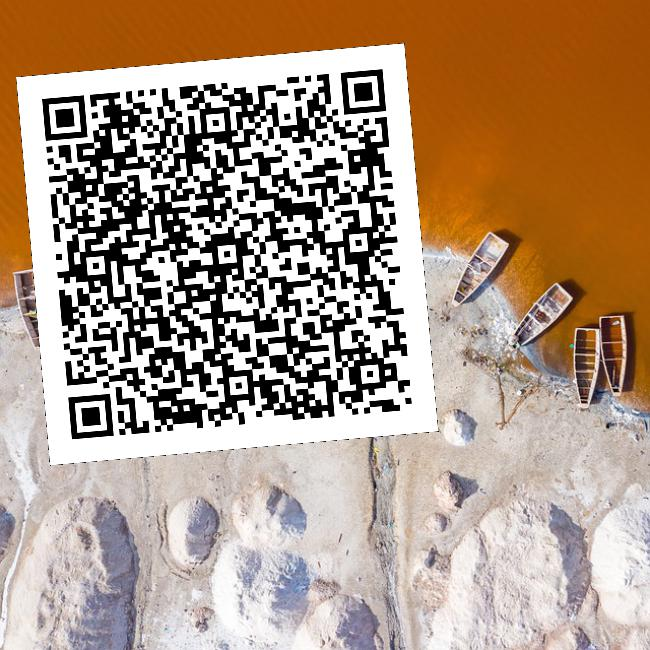qr_code: (16, 43, 438, 465)
